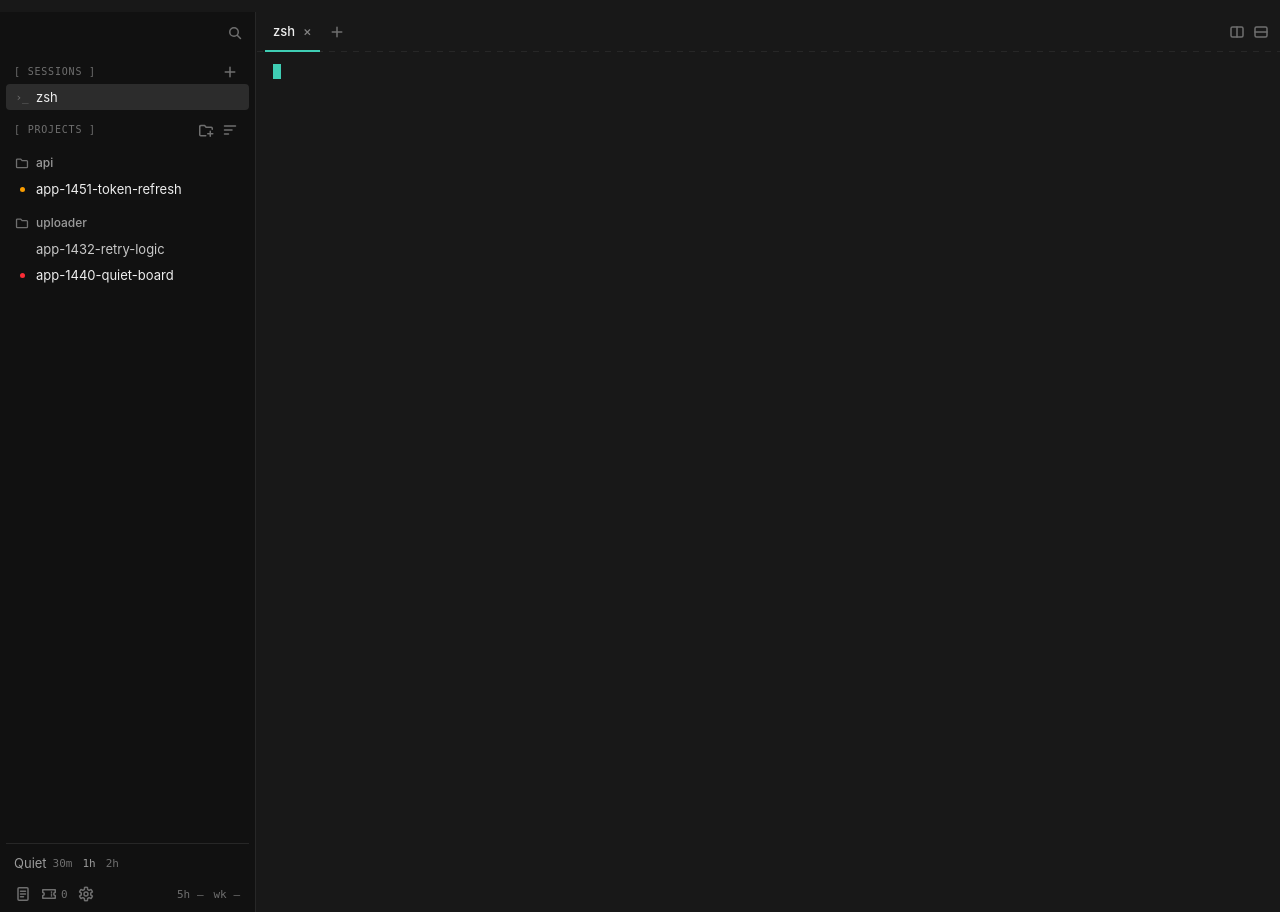
Sidebar › rendering › collapses a project from anywhere on its head, turning its chevron and counting its rows
Check: the 2nd icon with class "folder" is shown, box [15,216,29,230]
Click the button "uploader" at (128, 223), box [6,210,249,236]
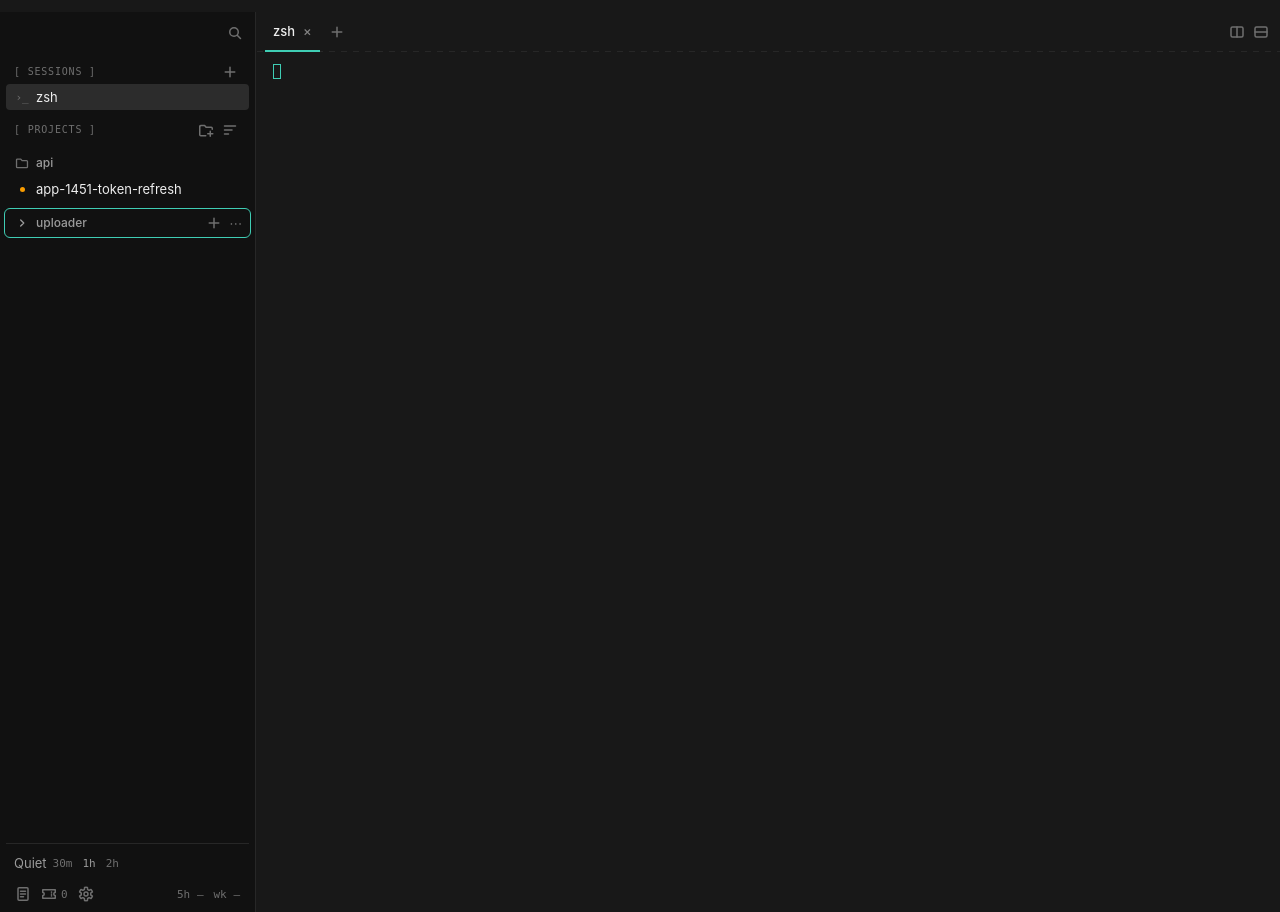
Check: the button "app-1432-retry-logic" is gone
